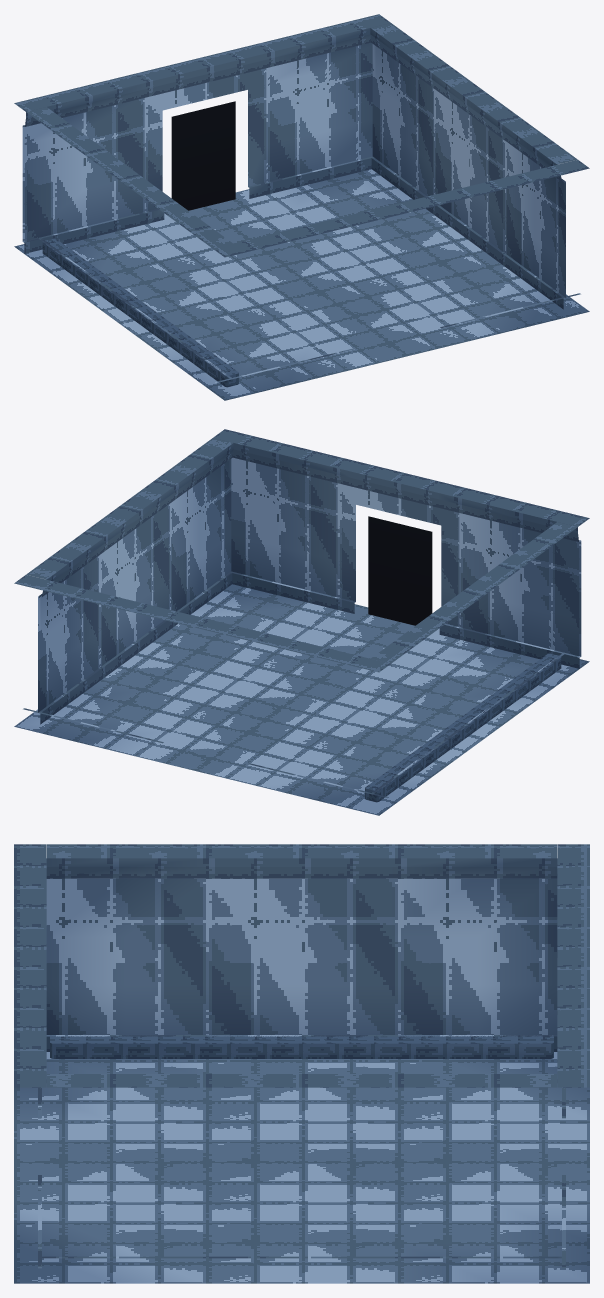
Rendered from cyroom.den.glb.
3 renders of one model, top to bottom at view 1: azimuth 30°, elevation 25°; view 2: azimuth 150°, elevation 25°; view 3: azimuth 270°, elevation 25°, orthographic. The views are drawn at different scales.
Visible parts, largest first — view 1: kit_shell_walls, kit_shell_floor, kit_card_lights, kit_trim; view 2: kit_shell_walls, kit_shell_floor, kit_card_lights, kit_trim; view 3: kit_shell_walls, kit_shell_floor, kit_trim.
Boxes of the visible parts, x1,y1,x2,y2 form: kit_shell_walls: (14,14,589,383); kit_shell_floor: (14,169,589,400); kit_card_lights: (171,101,235,210); kit_trim: (42,238,238,387); kit_shell_walls: (14,429,589,798); kit_shell_floor: (14,584,589,815); kit_card_lights: (368,516,432,625); kit_trim: (365,653,561,802); kit_shell_walls: (14,844,589,1268); kit_shell_floor: (14,1052,589,1283); kit_trim: (50,1035,553,1058).
Size of the model in its own units: 12 by 4.5 by 12.
Materials: 7 (7 with a texture image).
